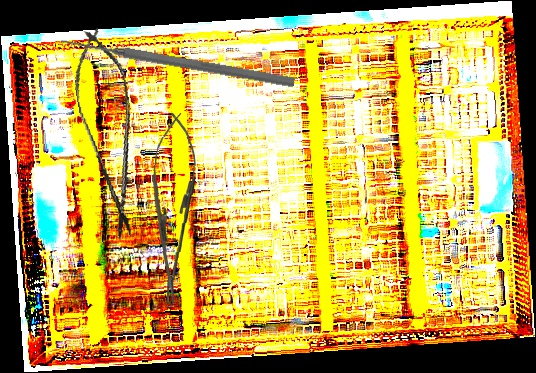Micro Scissor: (64, 20, 154, 247)
Needle Holder: (146, 112, 199, 305)
Pusher: (59, 33, 296, 90)
